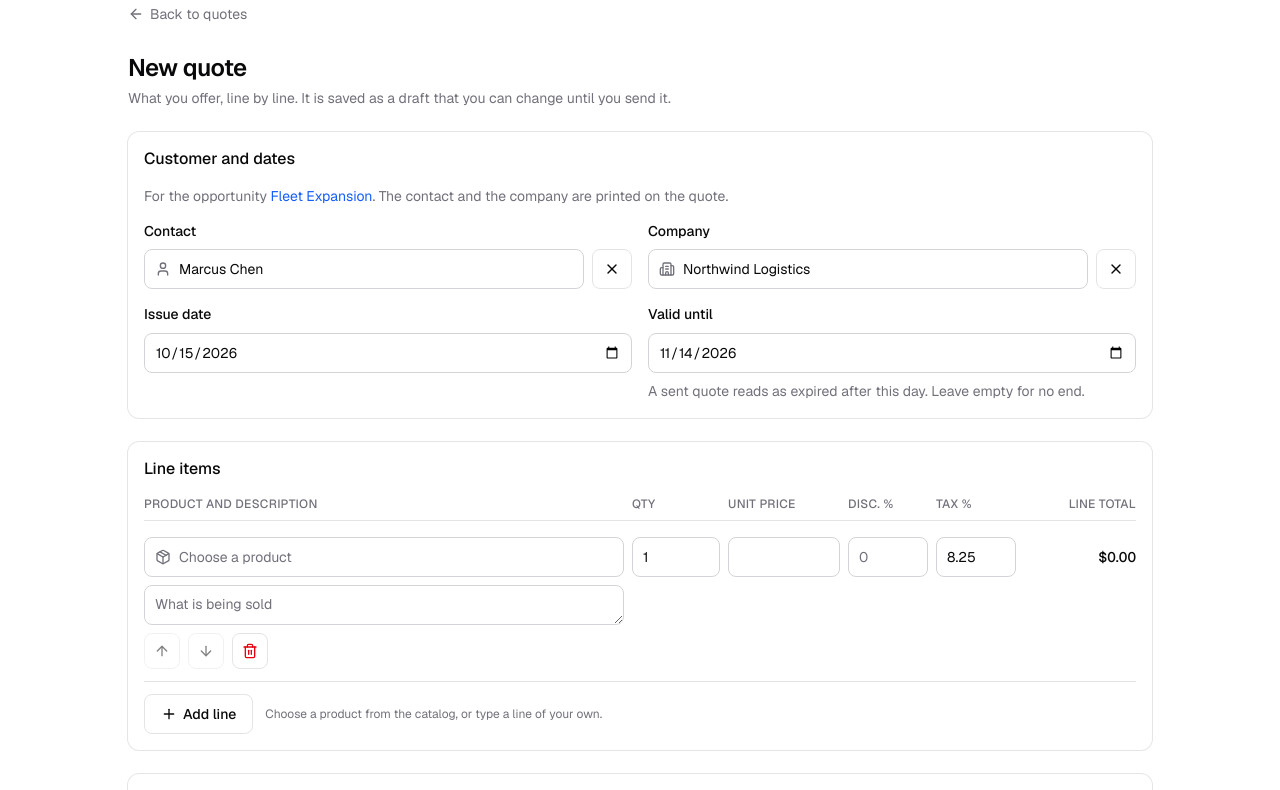
it: NewQuotePage › copies a picked product's name, price and tax rate into the line, which stays editable
This screenshot has width=1280, height=790.
Click the button with aria-label "Product: ".
click(235, 556)  # box [144,536,624,576]
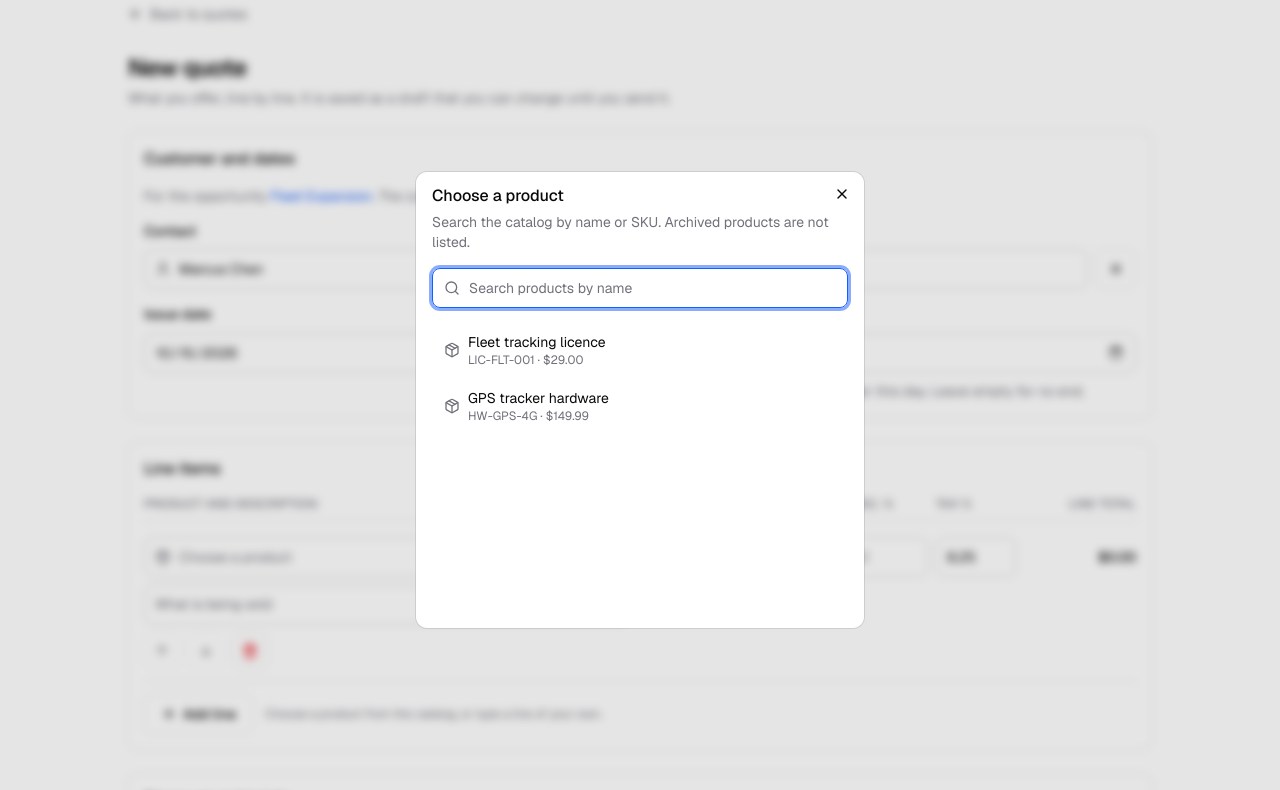
Click the button "Fleet tracking licence LIC-FLT-001 · $29.00".
click(537, 342)  # box [432,324,848,376]
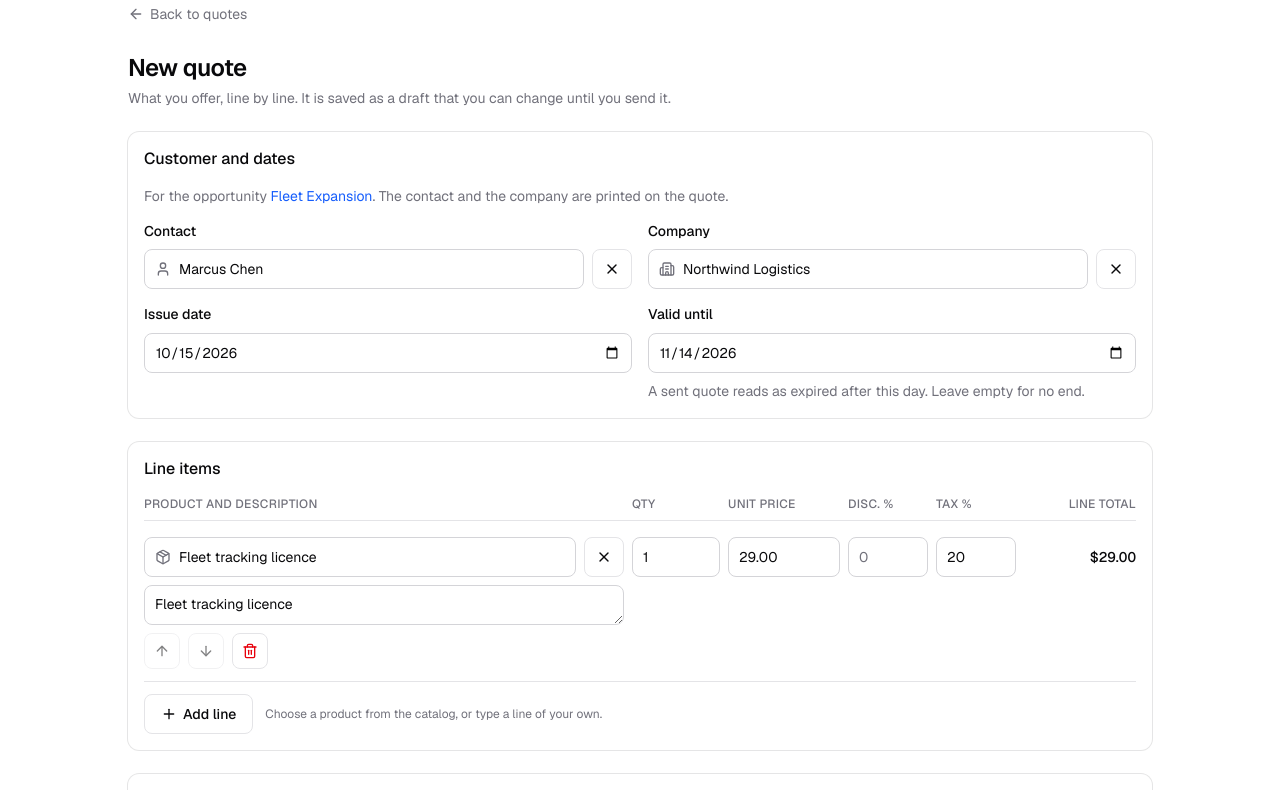
Check: the dialog is gone
Check: the text box named "Description" holds "Fleet tracking licence", box [144,584,624,624]
Check: the 2nd field named "Unit price (USD)" holds "29.00", box [728,536,840,576]
Click the button with aria-label "Product: ".
click(248, 556)  # box [144,536,576,576]
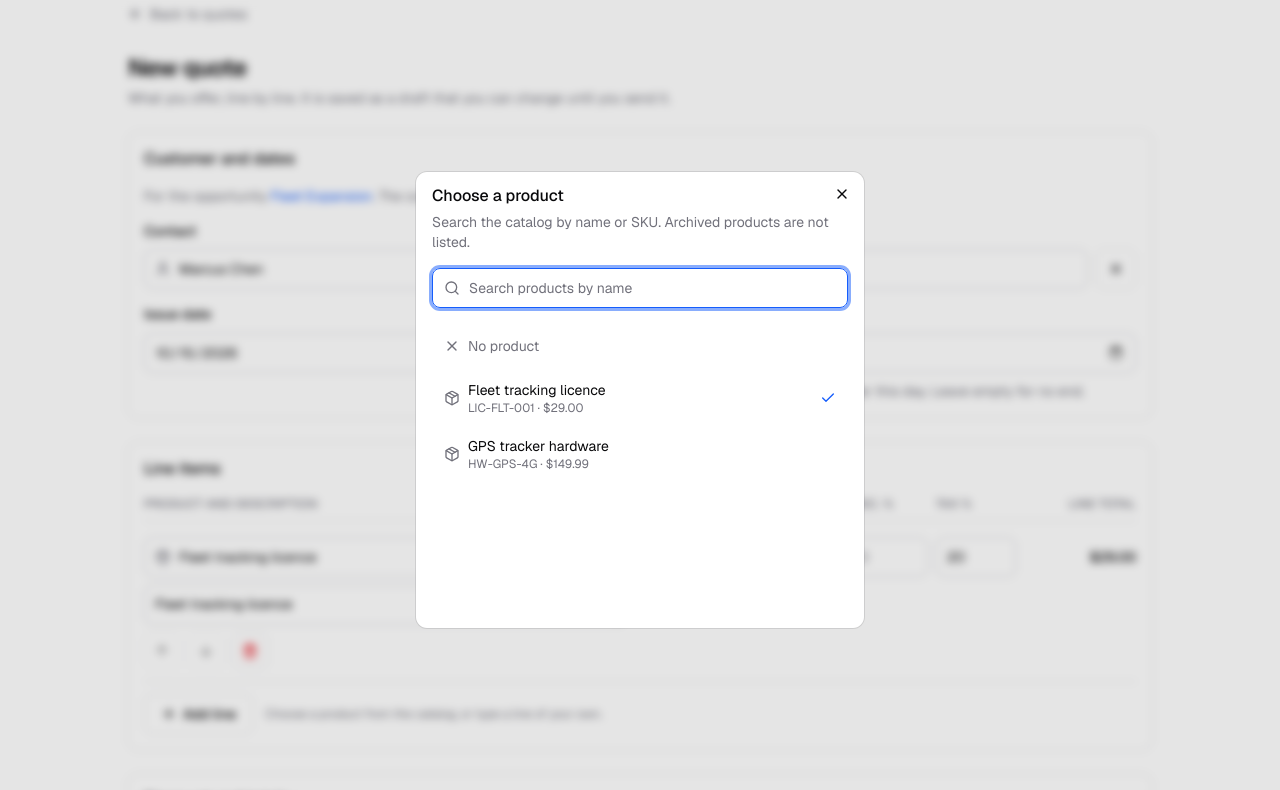
Click the button "GPS tracker hardware HW-GPS-4G · $149.99".
click(538, 446)  # box [432,428,848,480]
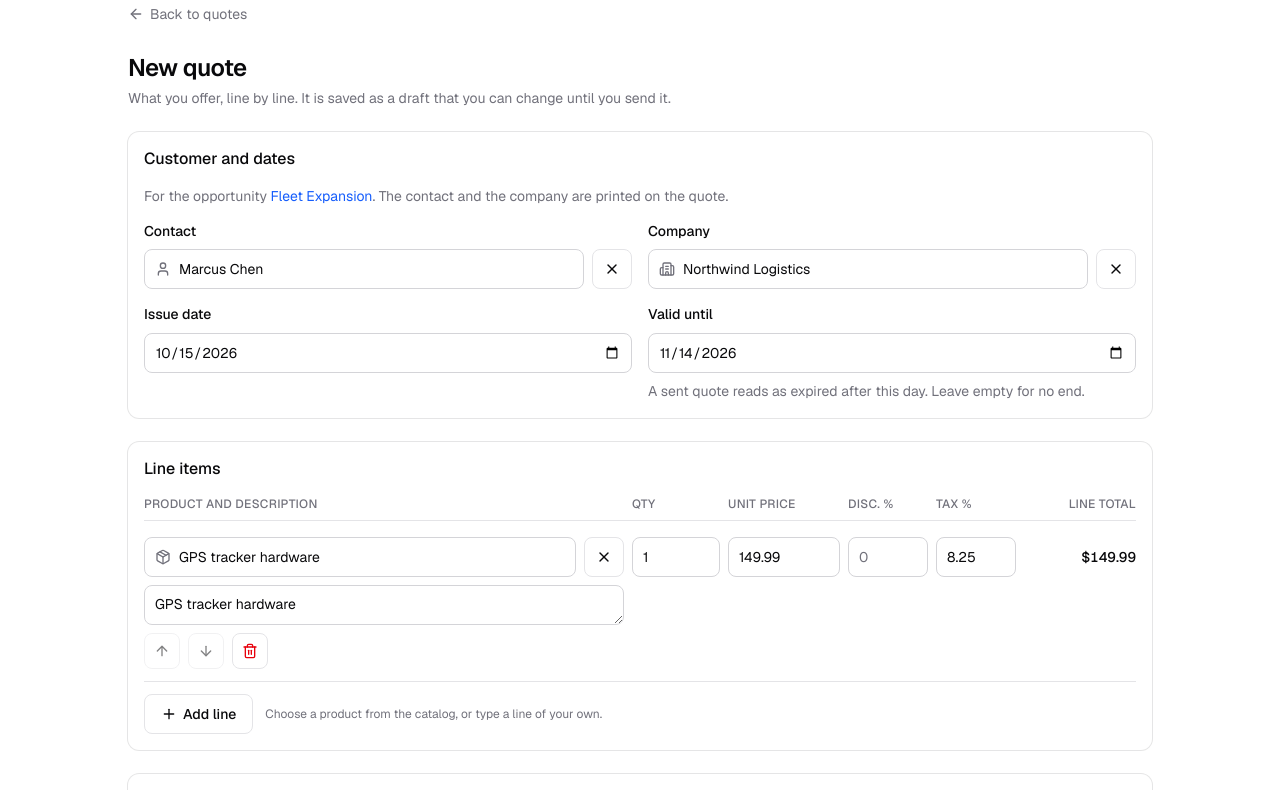
Check: the dialog is gone
Check: the 2nd field named "Unit price (USD)" holds "149.99", box [728,536,840,576]
Check: the 3rd field named "Tax %" holds "8.25", box [936,536,1016,576]
Click the button named "Clear product".
click(604, 556)  # box [584,536,624,576]
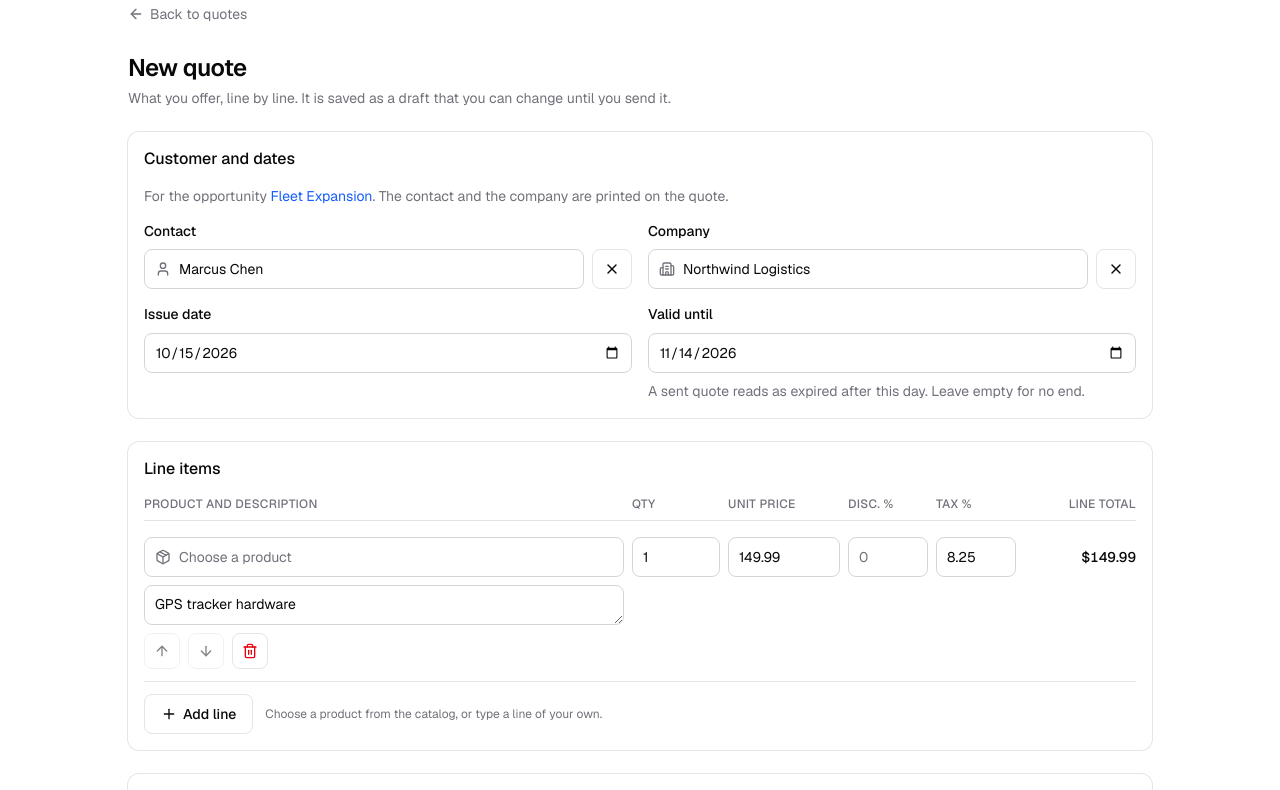
Check: the text box named "Description" holds "GPS tracker hardware", box [144,584,624,624]
Check: the button with aria-label "Product: none" is shown, box [144,536,624,576]
